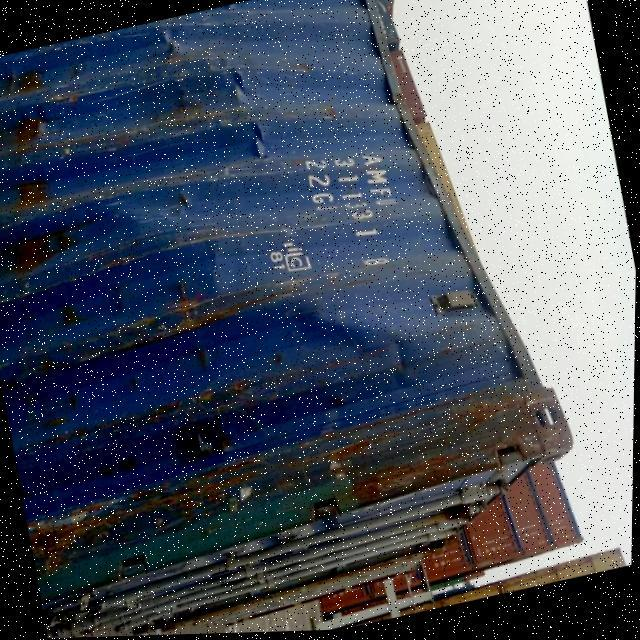dent: (289, 1, 540, 419)
